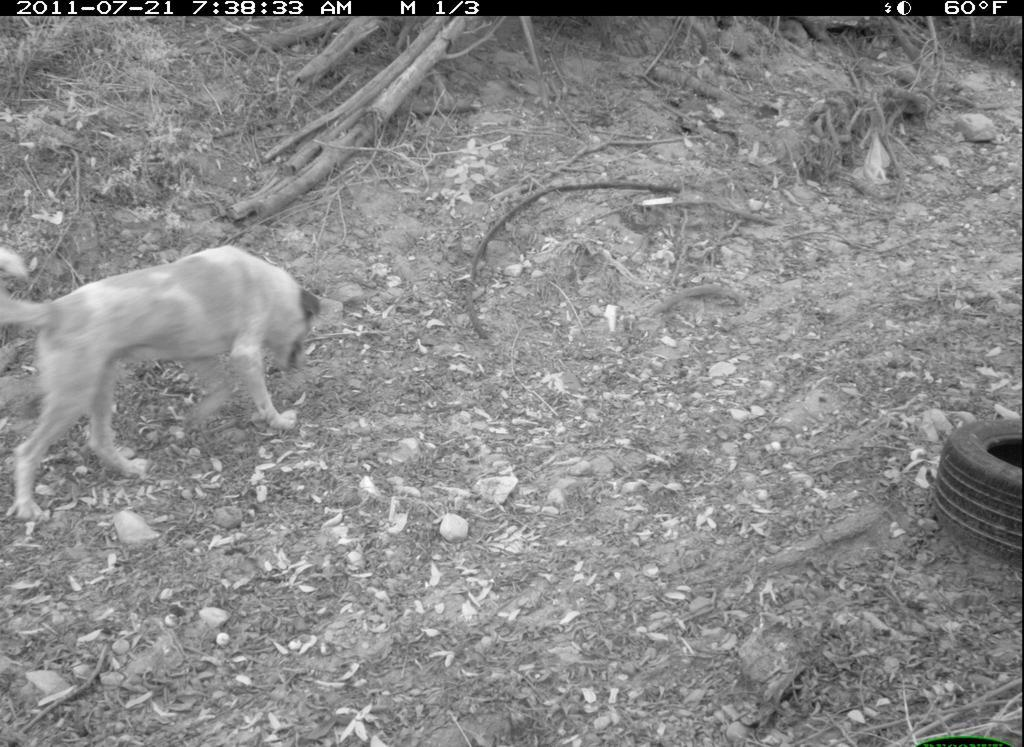dog: (2, 241, 350, 525)
